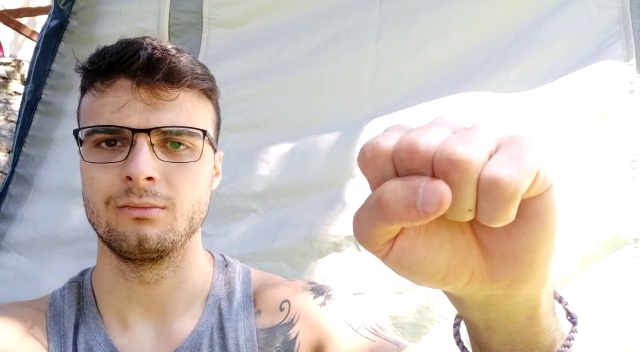Fist: (354, 116, 550, 291)
